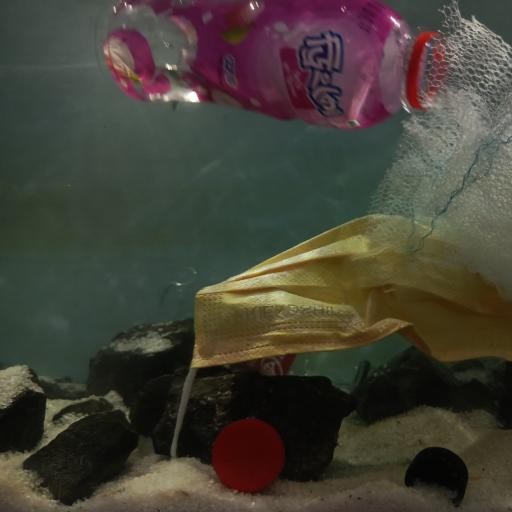bottle_cap: (212, 418, 284, 494), (404, 445, 470, 507)
mask: (190, 212, 512, 374)
net: (364, 0, 512, 300)
plastic_bottle: (92, 0, 452, 134), (160, 268, 374, 385)
